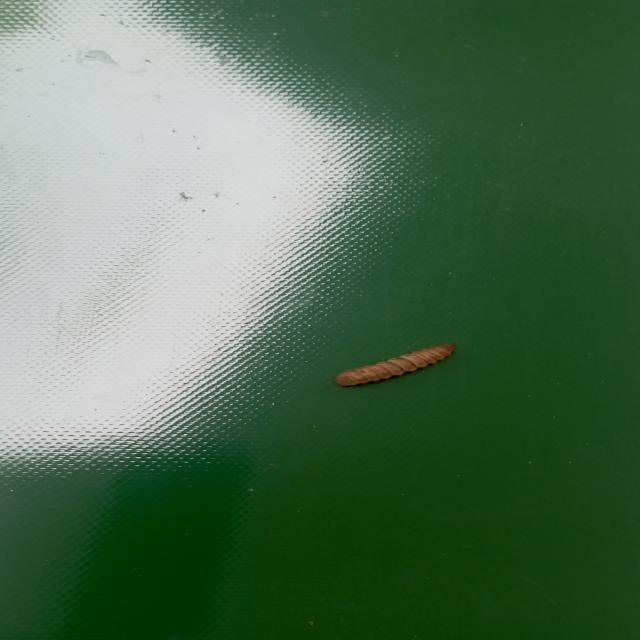Maggot: (333, 345, 456, 390)
